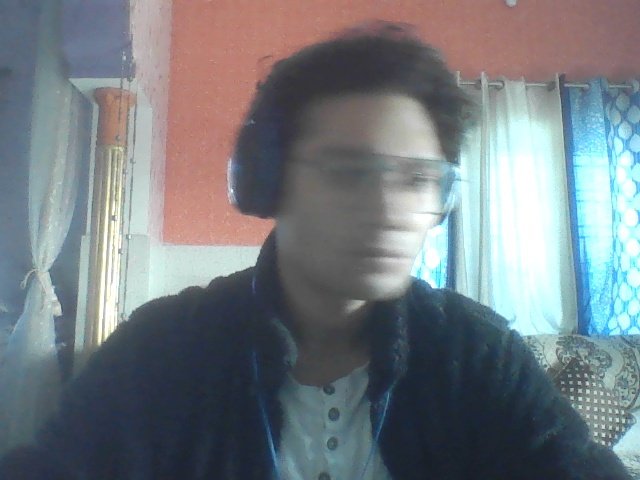real: (263, 36, 468, 326)
